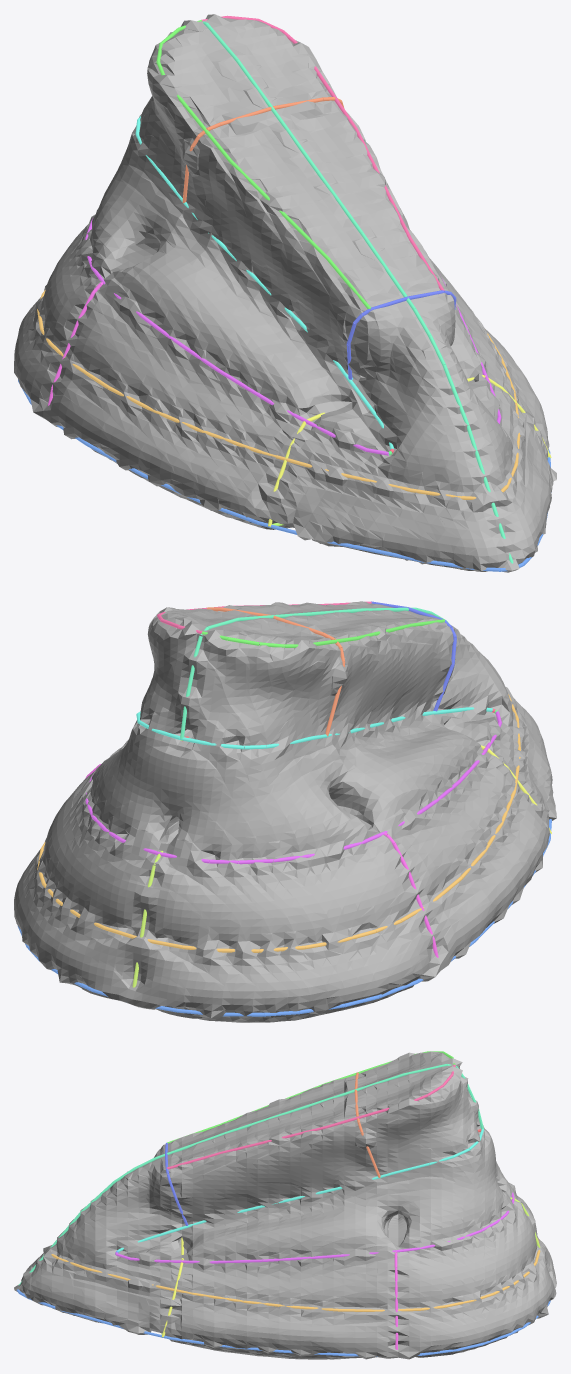
Rendered from t2f_iron.gltf.
The picture shows the model from 3 angles, top to bottom: view 1: azimuth 30°, elevation 25°; view 2: azimuth 150°, elevation 25°; view 3: azimuth 270°, elevation 25°; orthographic projection. The views are drawn at different scales.
Size of the model in its own units: 0.4858 by 0.4166 by 0.8107.
